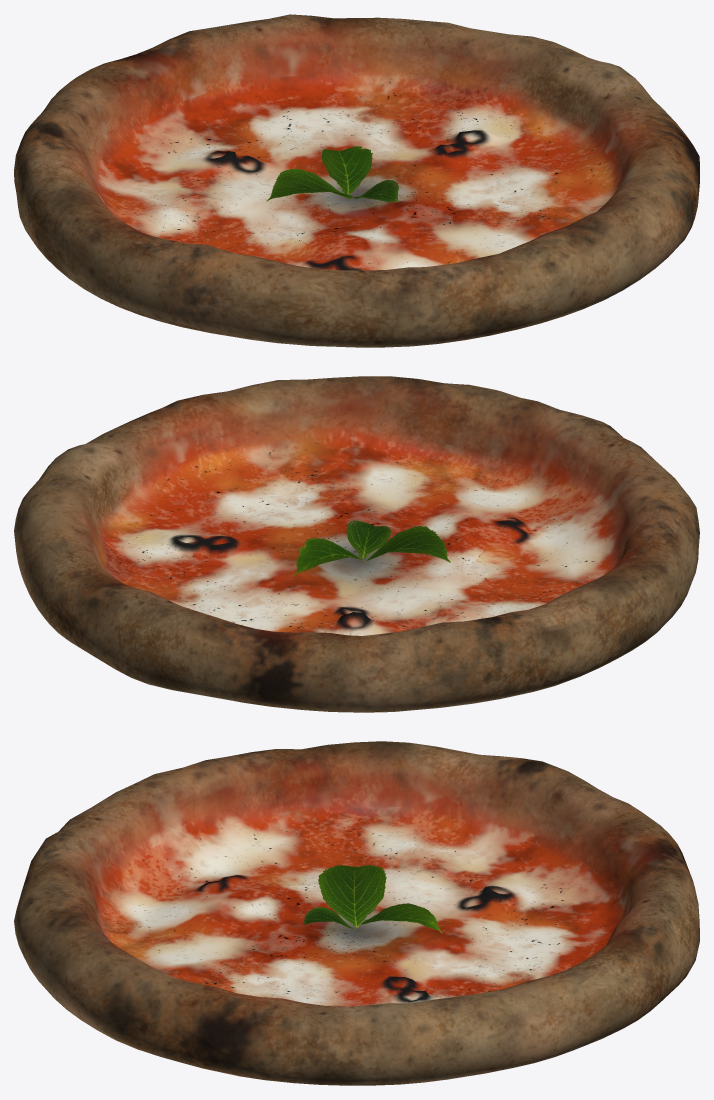
The model's file is SM_Pizza_01a.fbx.
The picture shows the model from 3 angles, top to bottom: view 1: azimuth 30°, elevation 25°; view 2: azimuth 150°, elevation 25°; view 3: azimuth 270°, elevation 25°; orthographic projection.
Visible parts, largest first — view 1: SM_Pizza_01a_LOD0; view 2: SM_Pizza_01a_LOD0; view 3: SM_Pizza_01a_LOD0.
Part boxes in pixels (x1,y1,x2,y2): SM_Pizza_01a_LOD0: (14, 14, 699, 347); SM_Pizza_01a_LOD0: (14, 376, 699, 712); SM_Pizza_01a_LOD0: (14, 741, 699, 1085).
Bounding box in the file's own units: 33.33 × 33.08 × 4.44.
